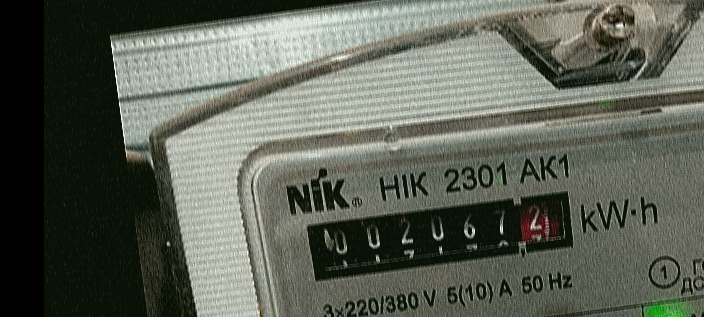0: (330, 225, 352, 256), (426, 210, 448, 241), (364, 219, 384, 250)
2: (396, 215, 417, 246), (525, 200, 546, 231)
6: (459, 209, 481, 240)
7: (492, 205, 512, 237)
screen: (292, 175, 592, 295)
